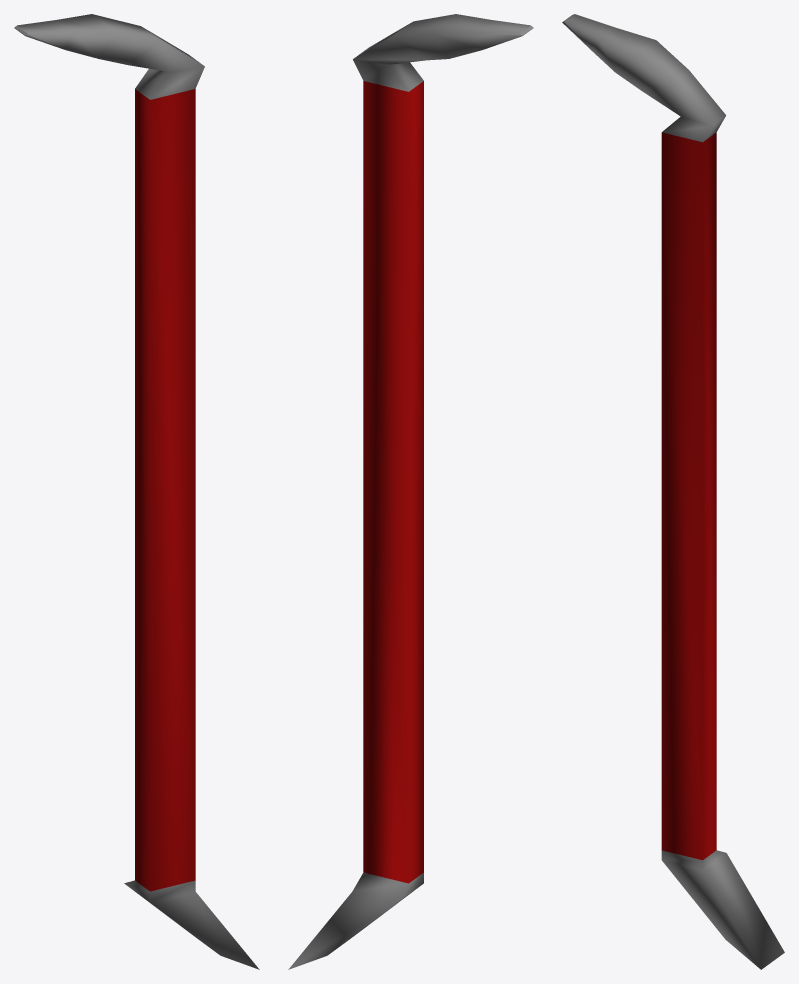
Rendered from crowbar.glb.
The picture shows the model from 3 angles, left to right: view 1: azimuth 30°, elevation 25°; view 2: azimuth 150°, elevation 25°; view 3: azimuth 330°, elevation 25°; orthographic projection. The views are drawn at different scales.
Parts seen in each view (by area): view 1: Cube; view 2: Cube; view 3: Cube.
Boxes of the visible parts, bbox=[...] form: Cube: bbox=[14, 14, 259, 969]; Cube: bbox=[288, 14, 533, 969]; Cube: bbox=[562, 14, 784, 969].
Size of the model in its own units: 10.01 by 41.49 by 2.
